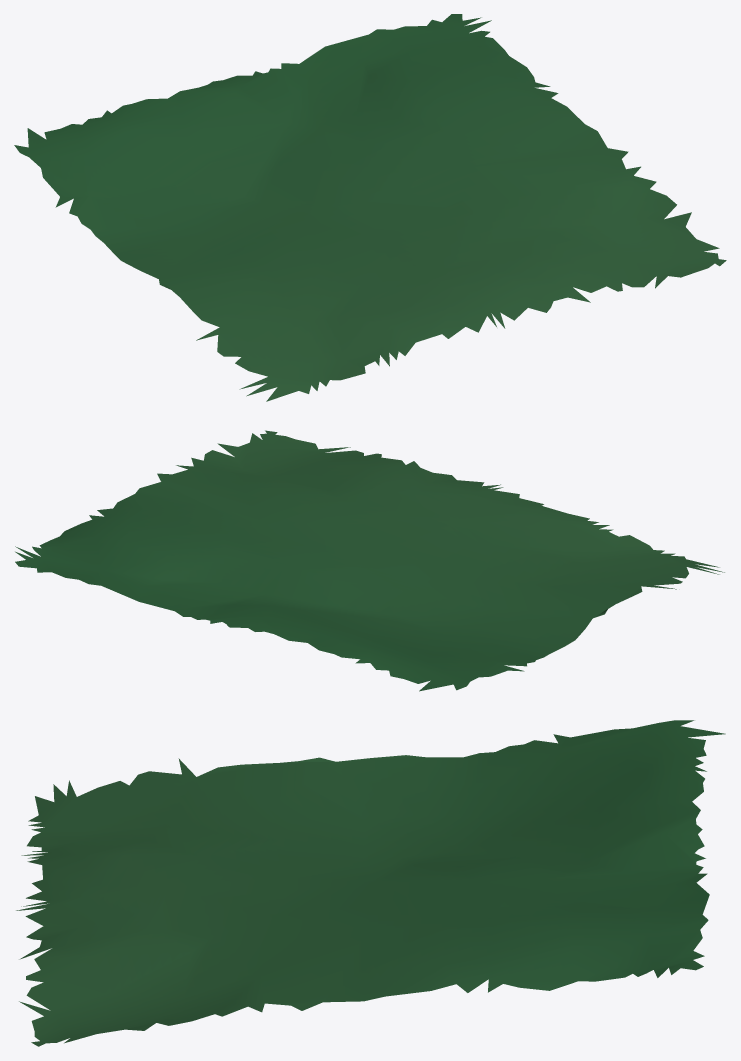
File: payo_land_x1_y6_lod2.glb
3 renders of one model, top to bottom at view 1: azimuth 30°, elevation 25°; view 2: azimuth 150°, elevation 25°; view 3: azimuth 270°, elevation 25°, orthographic. The views are drawn at different scales.
Visible parts, largest first — view 1: payo_land_x1_y6; view 2: payo_land_x1_y6; view 3: payo_land_x1_y6.
Boxes of the visible parts, <box> form: payo_land_x1_y6: <box>14,14,726,401</box>; payo_land_x1_y6: <box>15,430,724,691</box>; payo_land_x1_y6: <box>16,720,725,1046</box>.
Bounding box in the file's own units: 275 × 46.84 × 275.
